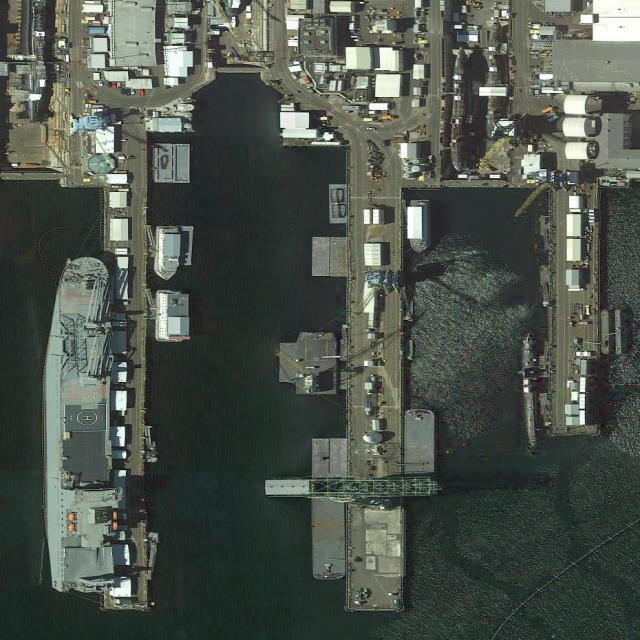Container Ship: (45, 254, 114, 595)
Dock: (344, 181, 406, 612), (98, 186, 149, 610), (547, 185, 603, 438)
Other Ship: (154, 226, 182, 281)
Submarine: (524, 332, 536, 451)
